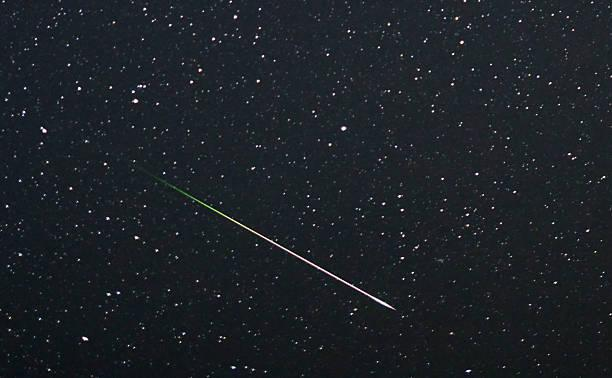meteor: (384, 300, 403, 315)
